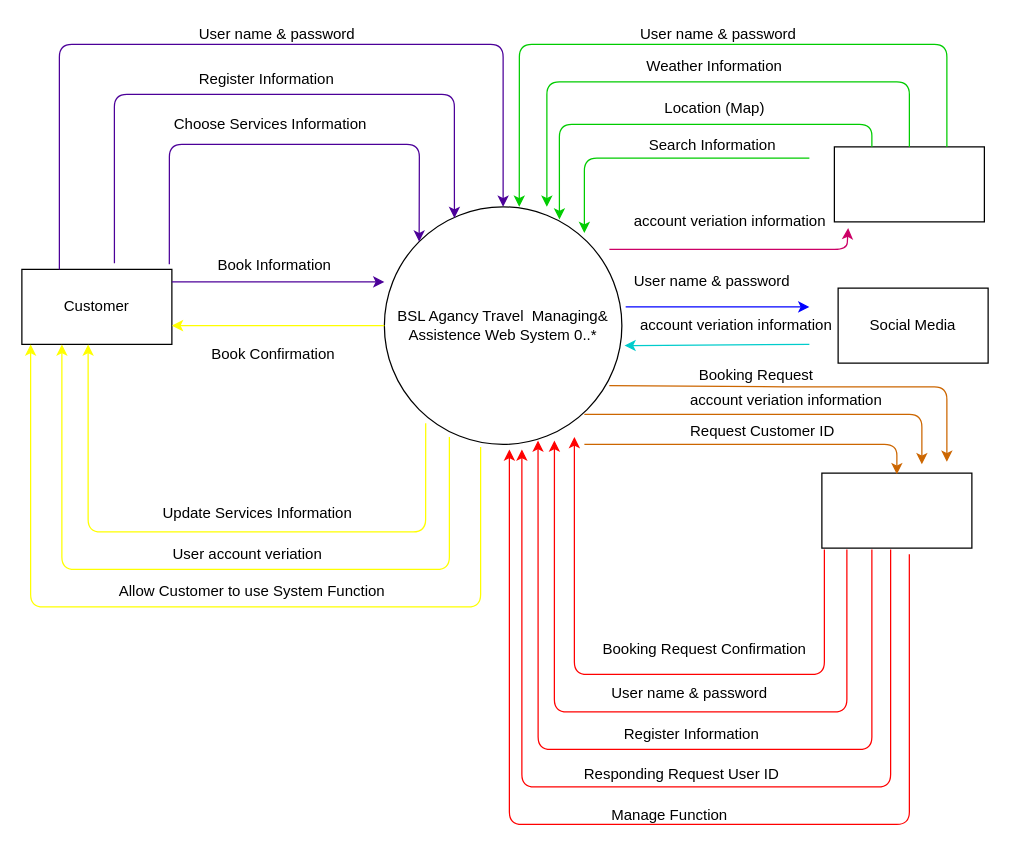
Image size: 1010x856. Some labels were removed from this diagram. The shapes that lost their labels are listed below. From the top down, each one's box as (x1, y1, x2, y2) in pixels, then its label:
(833, 146, 984, 222): Google
(821, 472, 972, 548): Admin(Manager)
